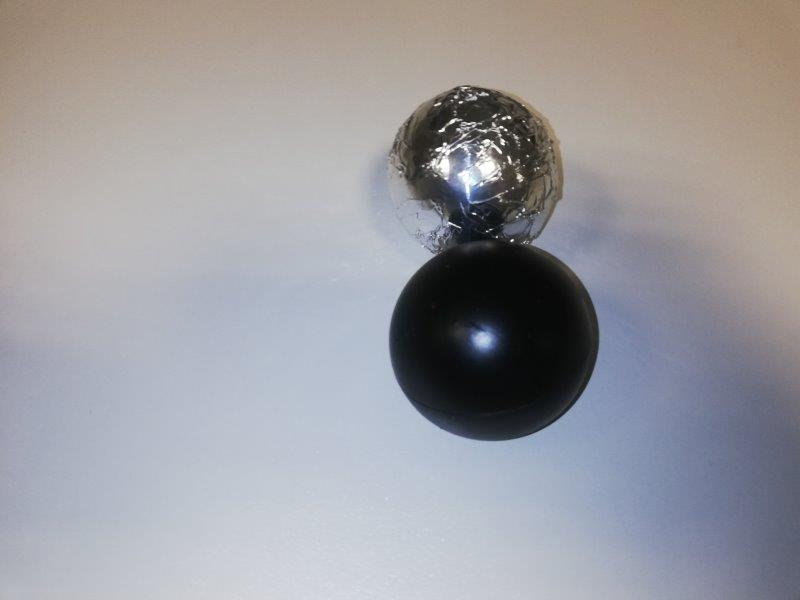bianca: (390, 85, 560, 249)
nera: (391, 239, 595, 442)
